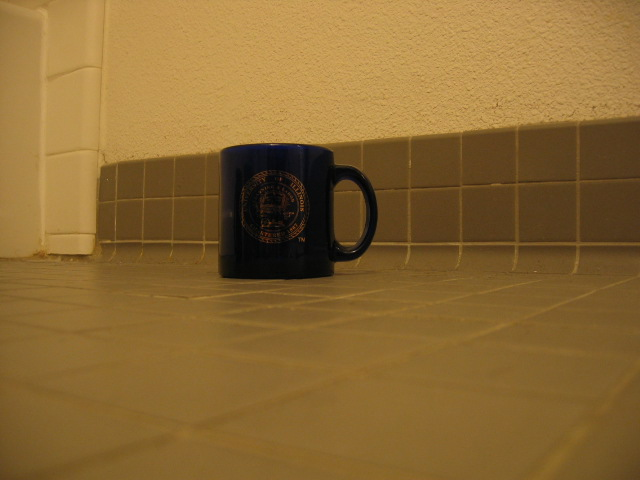mug: (217, 142, 380, 286)
